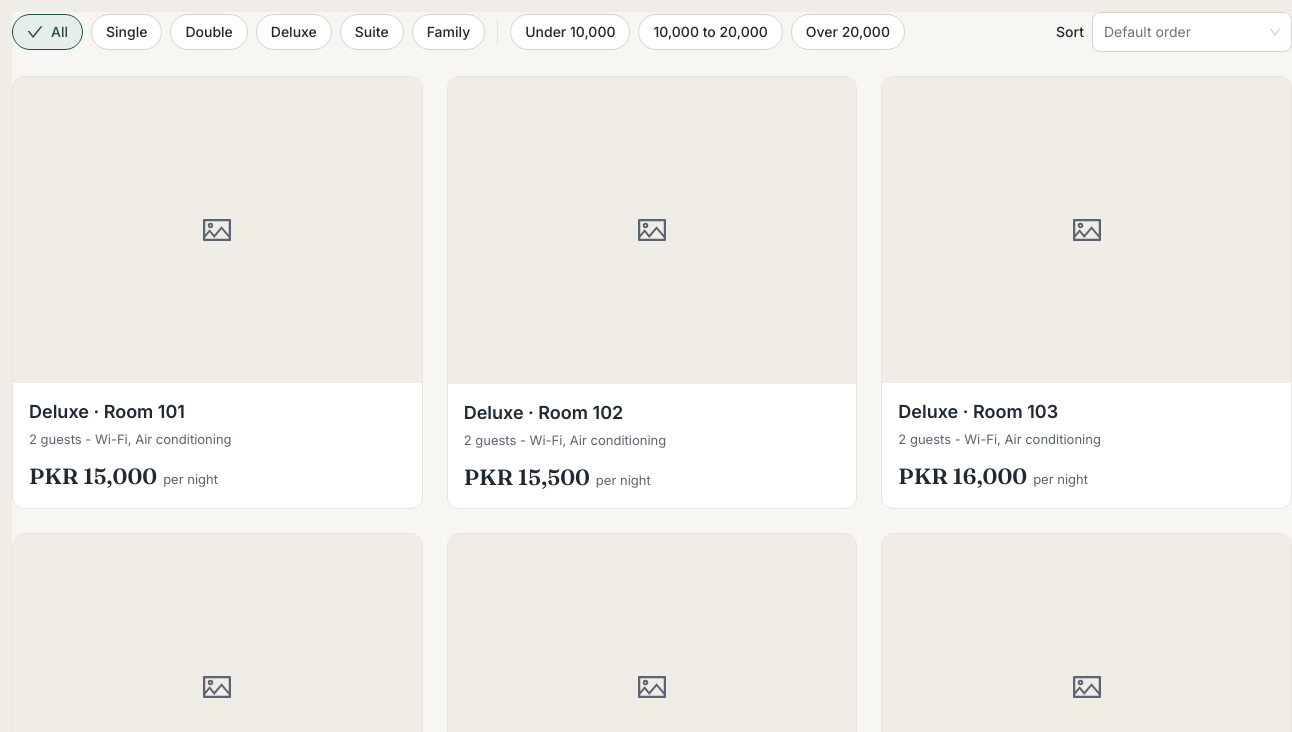
HomeRoomsSection › updates the URL and resets page to 1 when clicking room type, price chips, and sort
Later steps or results of the test are not shown.
Click the button "Deluxe" at (294, 32), box x1=256 y1=14 x2=332 y2=50
Click the button "Under 10,000" at (570, 32), box x1=510 y1=14 x2=630 y2=50
Click the button "10,000 to 20,000" at (711, 32), box x1=638 y1=14 x2=783 y2=50
Click the button "Over 20,000" at (848, 32), box x1=791 y1=14 x2=905 y2=50
Click the button "All" at (48, 32), box x1=12 y1=14 x2=83 y2=50
Press the mouse on the dropdown labelled "Sort" at (1070, 32), box x1=1056 y1=22 x2=1084 y2=42
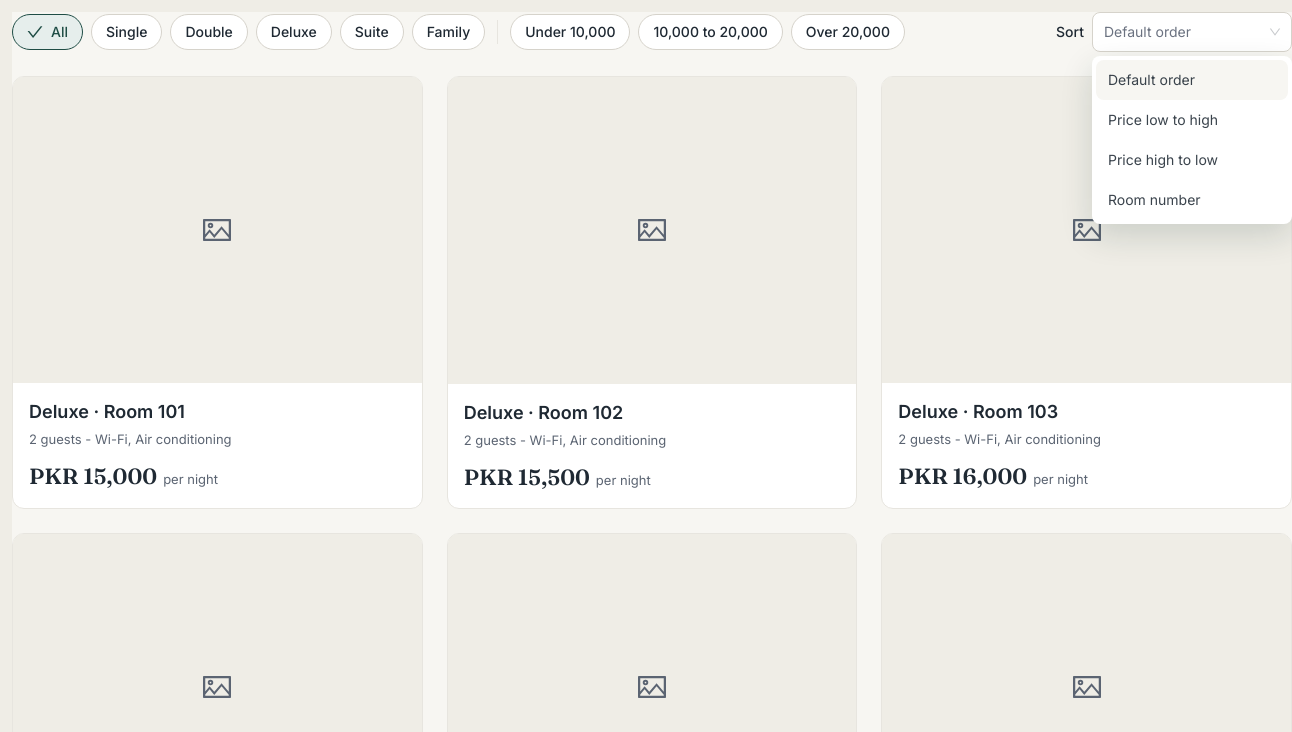
Now the text "Price low to high" is shown, box x1=1108 y1=111 x2=1218 y2=128
